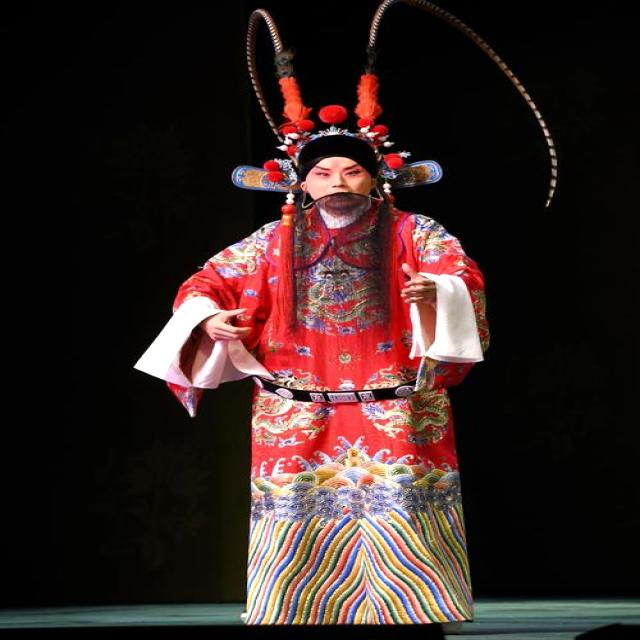Reeves-s Pheasant: (365, 0, 557, 206), (247, 9, 293, 140), (357, 84, 375, 124), (241, 170, 264, 187)
